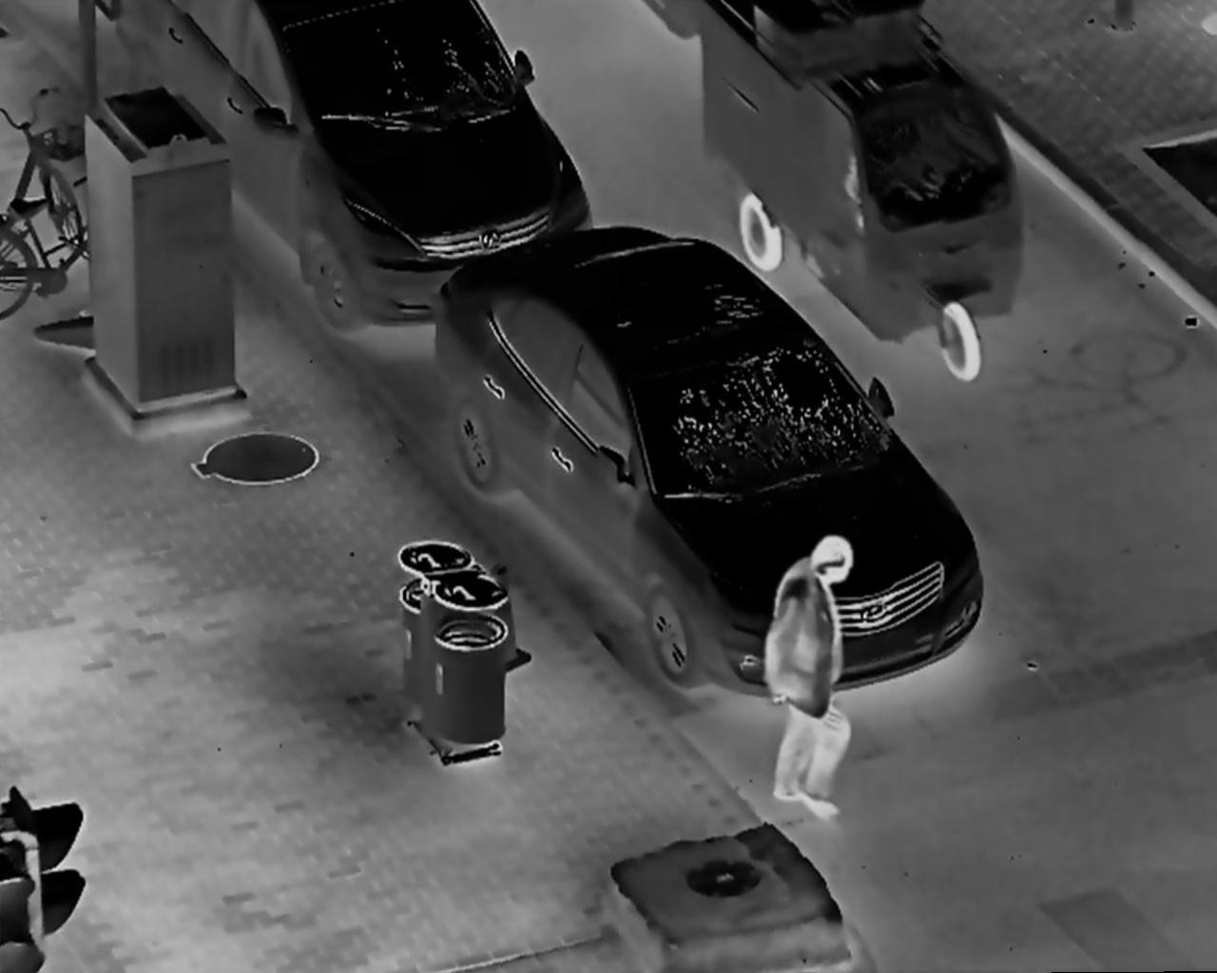person: (761, 531, 867, 829)
